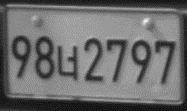2: (82, 36, 104, 82)
7: (153, 39, 176, 85), (105, 38, 128, 83)
8: (34, 35, 54, 80)
9: (130, 39, 152, 84), (10, 35, 32, 79)
너: (56, 44, 79, 80)
